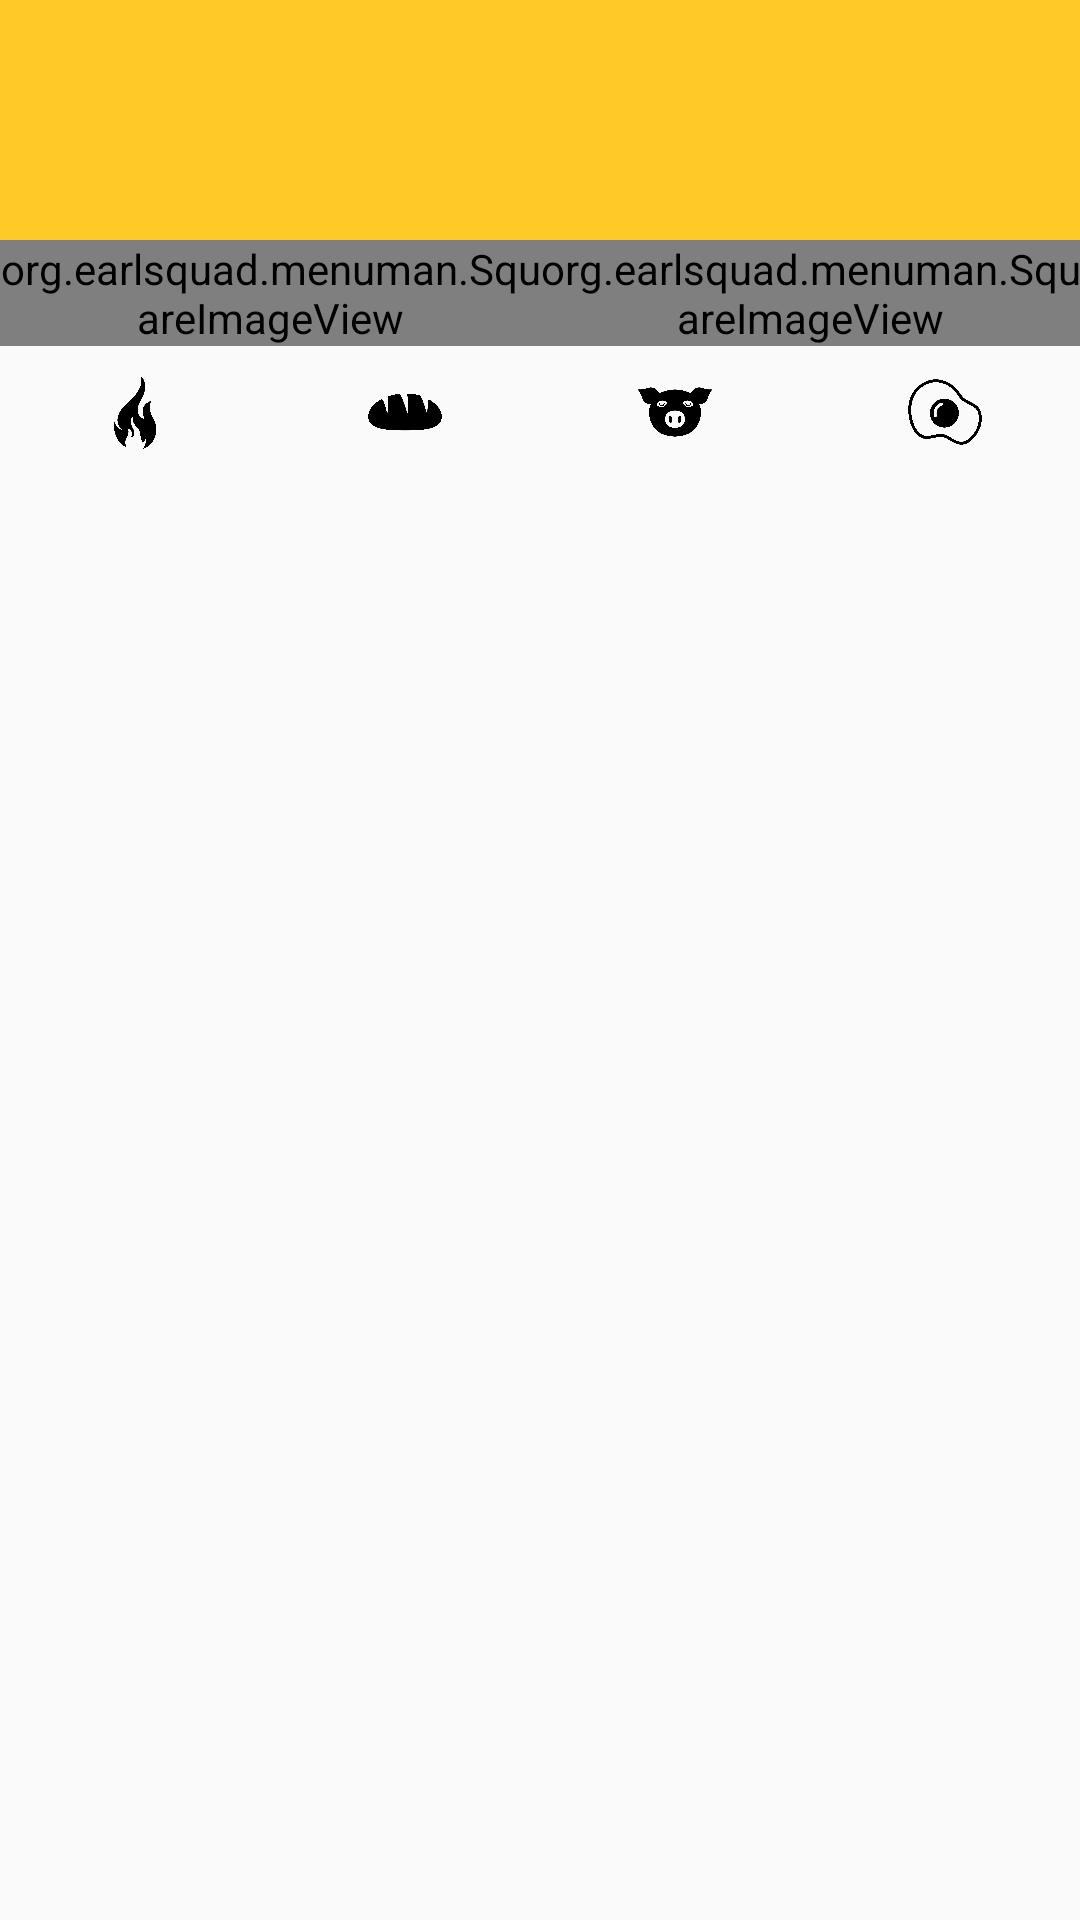

Icons on this 1080 × 1920 Android screen, each with its box as (x1, y1, x2, y2):
calories: (114, 377, 156, 449)
carbs: (368, 394, 442, 431)
fat: (638, 387, 712, 437)
protein: (908, 379, 982, 445)
